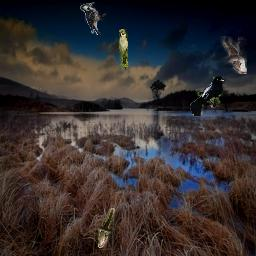Crow: (190, 76, 225, 116)
Cuckoo: (218, 36, 247, 74), (98, 208, 115, 248)
Sparrow: (119, 29, 128, 69)
Woodpecker: (80, 2, 107, 35)
